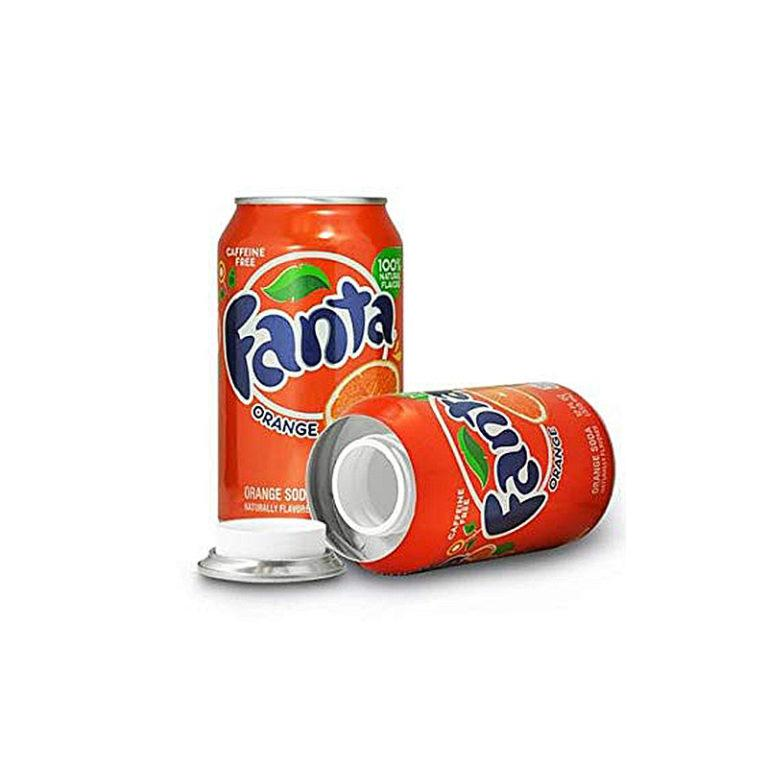metal: (218, 198, 616, 574)
